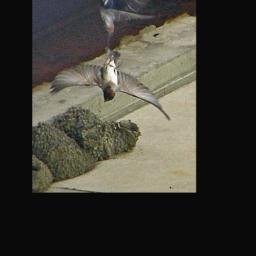Swallow: (47, 44, 173, 123)
